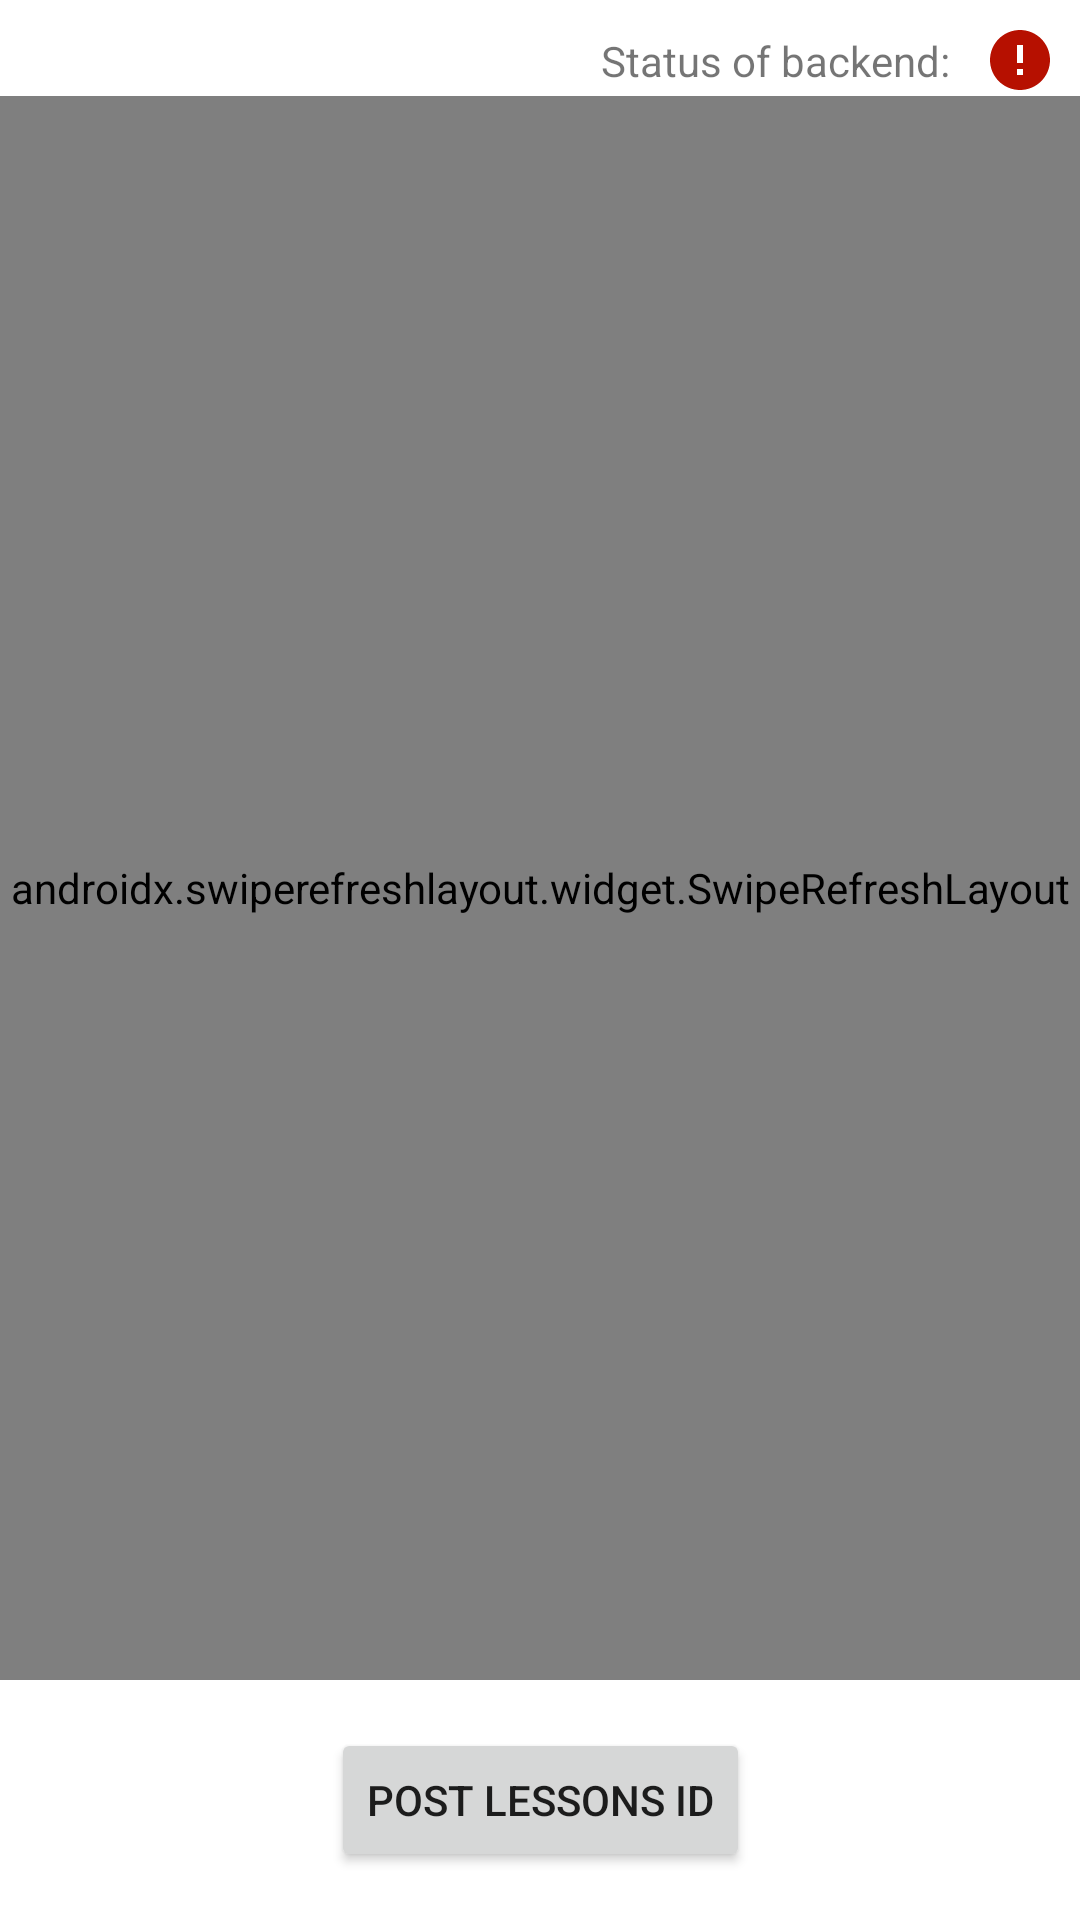

Point at icon controls on the screen. Image size 1080×1920, points as point (x, y).
error: point (1020, 60)
